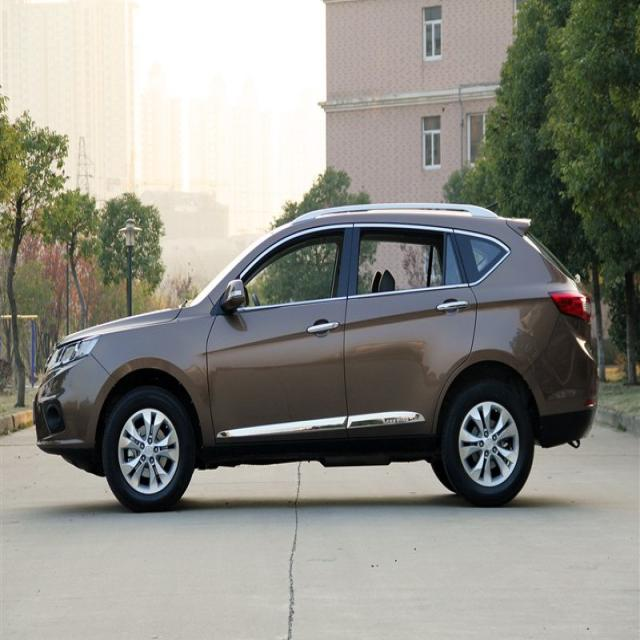back_left_side_light: (547, 288, 593, 322)
door: (346, 220, 476, 438)
front_bumper: (31, 352, 120, 463)
front_left_side_door: (205, 220, 356, 450)
front_left_side_light: (45, 333, 102, 374)
front_left_side_mirror: (220, 278, 246, 312)
rear_bumper: (522, 315, 602, 451)
wheel: (104, 383, 194, 511), (441, 382, 533, 504)
